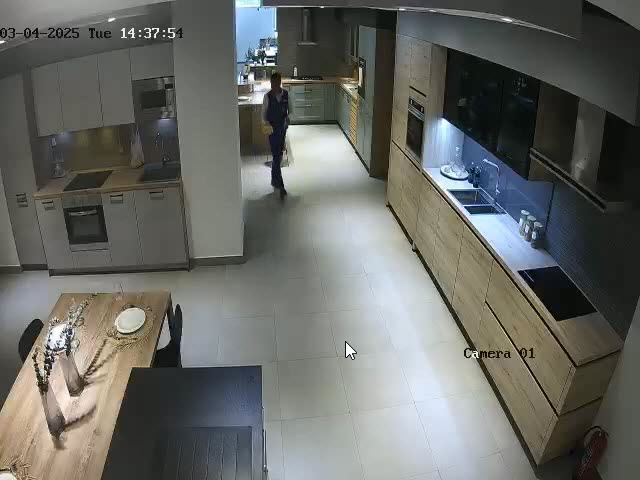employee: (261, 72, 290, 195)
